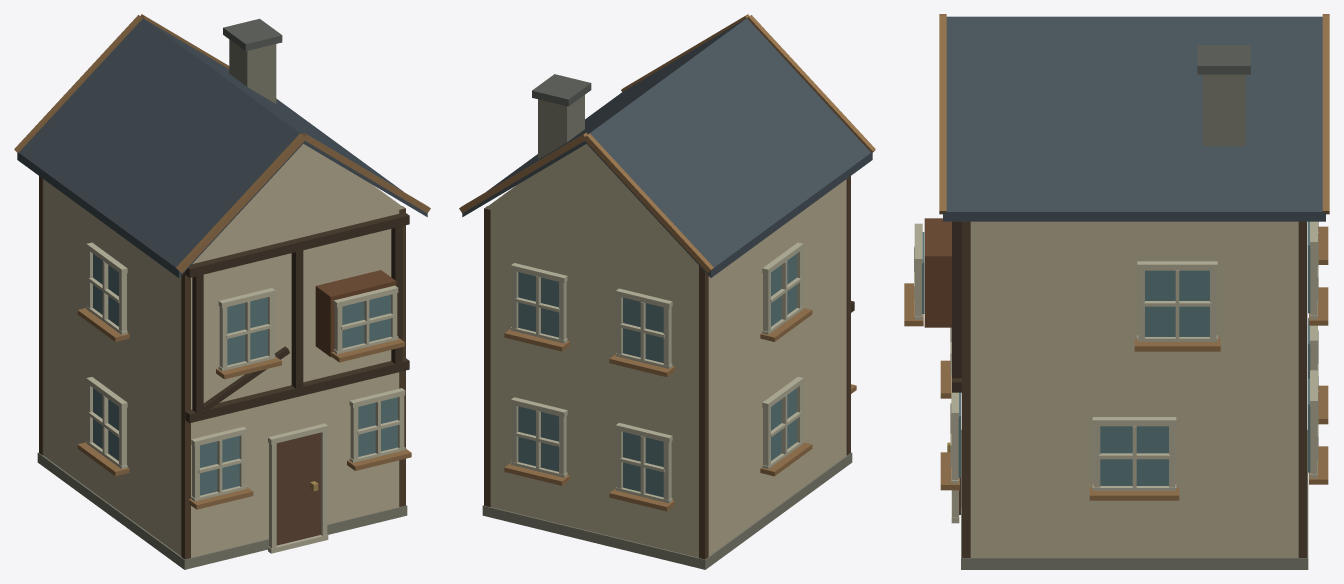
The model's file is Building_Settlement_HalfTimberTownhouse_001.glb.
3 views of the same model, side by side, from view 1: azimuth 30°, elevation 25°; view 2: azimuth 150°, elevation 25°; view 3: azimuth 270°, elevation 25° (orthographic). The views are drawn at different scales.
Parts seen in each view (by area): view 1: Building_Settlement_HalfTimberTownhouse_001; view 2: Building_Settlement_HalfTimberTownhouse_001; view 3: Building_Settlement_HalfTimberTownhouse_001.
Part boxes in pixels (bbox=[...]): Building_Settlement_HalfTimberTownhouse_001: bbox=[14, 14, 430, 569]; Building_Settlement_HalfTimberTownhouse_001: bbox=[459, 14, 875, 569]; Building_Settlement_HalfTimberTownhouse_001: bbox=[904, 14, 1329, 569].
Size of the model in its own units: 4.81 by 7.58 by 5.94.
